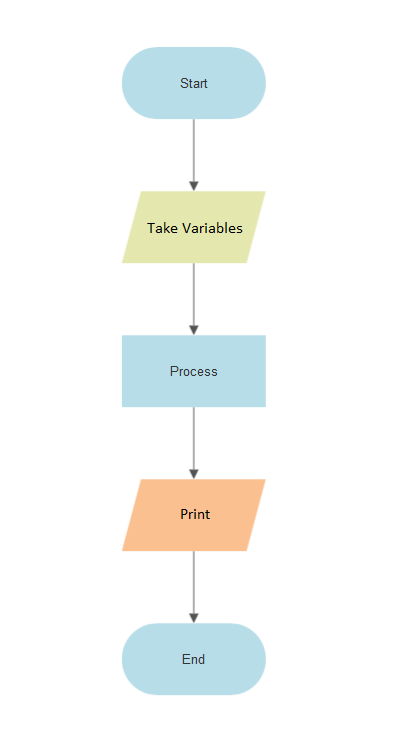arrow: (187, 117, 202, 194), (187, 550, 202, 625), (185, 261, 200, 333), (187, 405, 199, 478)
data: (118, 476, 265, 554), (119, 189, 265, 265)
process: (118, 332, 269, 409)
terminator: (119, 44, 269, 121), (120, 622, 266, 698)
text: (145, 216, 242, 238), (165, 363, 220, 380), (173, 504, 212, 523), (175, 650, 208, 670), (174, 75, 211, 92)
